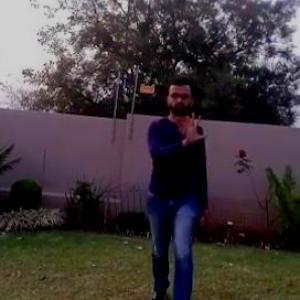follow_hand: (177, 109, 210, 148)
